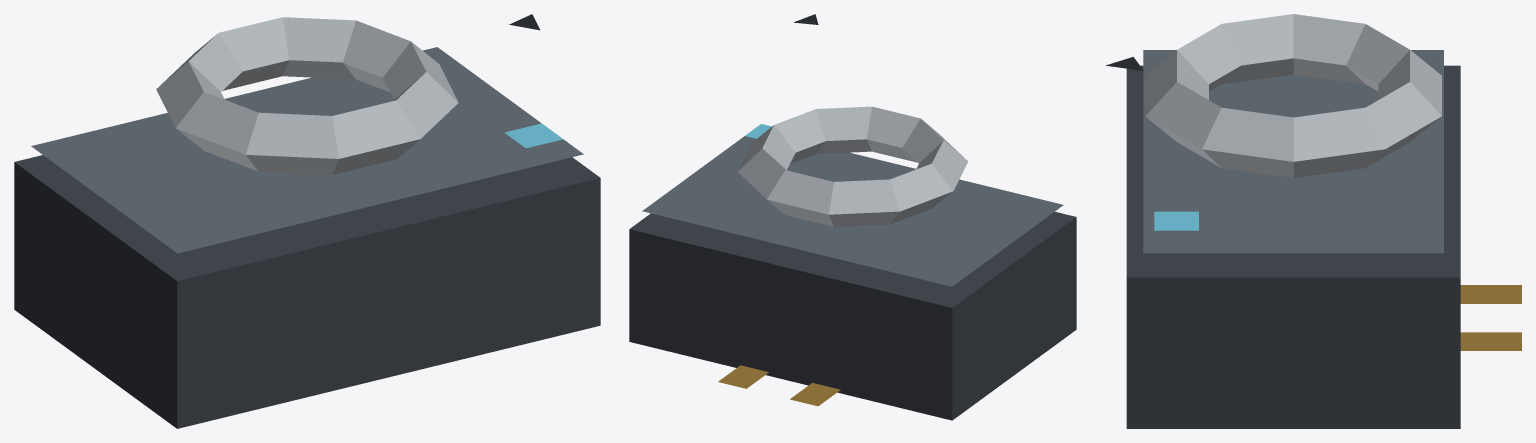
File: droid-enhanced-reconstructor.lod.glb
3 views of the same model, side by side, from view 1: azimuth 30°, elevation 25°; view 2: azimuth 150°, elevation 25°; view 3: azimuth 270°, elevation 25° (orthographic). The views are drawn at different scales.
Parts seen in each view (by area): view 1: m; view 2: m; view 3: m.
Part boxes in pixels (bbox=[...]): m: bbox=[14, 14, 600, 428]; m: bbox=[629, 14, 1076, 420]; m: bbox=[1106, 14, 1521, 428].
Size of the model in its own units: 0.1 by 0.0778 by 0.0832.
